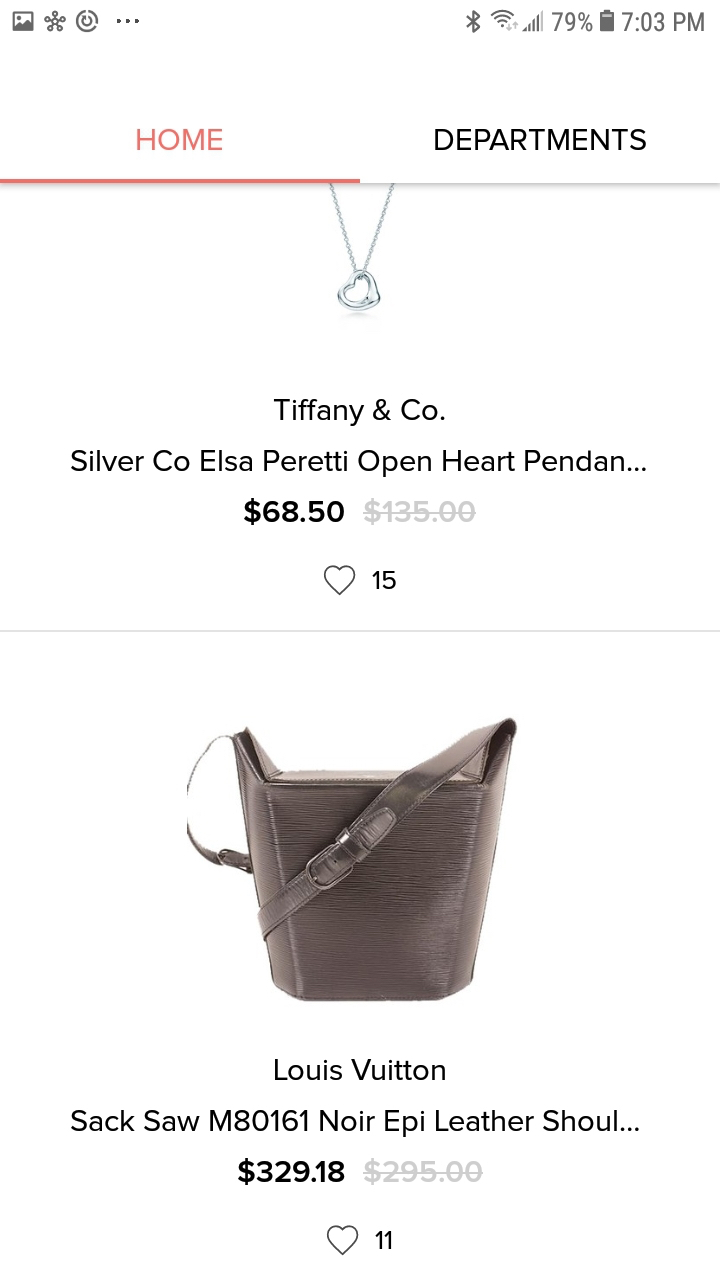Icon: (323, 564, 356, 596), (327, 1224, 360, 1255)
Image: (186, 711, 517, 1001), (329, 183, 396, 312)
Text: (71, 1109, 640, 1138), (71, 450, 646, 478), (238, 1157, 483, 1186), (244, 498, 477, 526), (434, 129, 647, 152), (274, 399, 445, 427), (275, 1058, 446, 1081), (137, 129, 224, 152), (372, 571, 397, 591), (375, 1230, 393, 1250)
UpperTaskBar: (1, 1, 719, 35)
